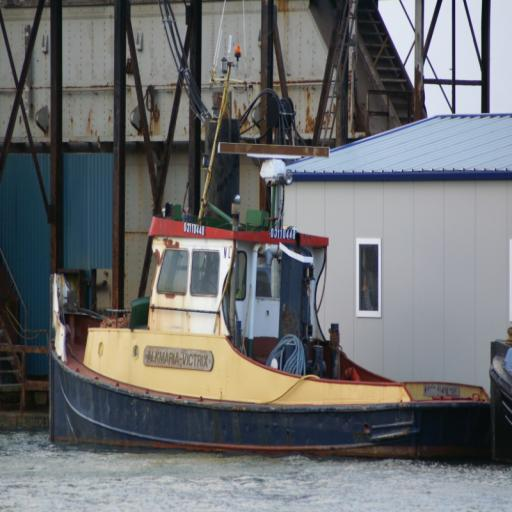tugboat: (45, 198, 498, 474)
